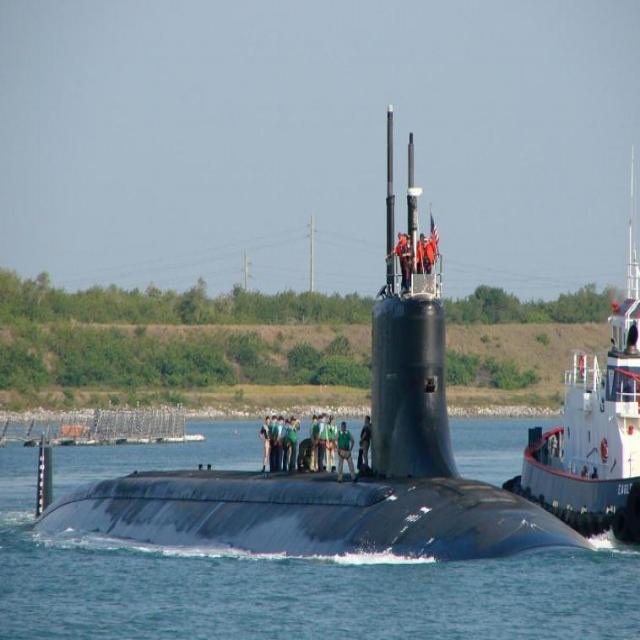submarine: (29, 94, 621, 538)
